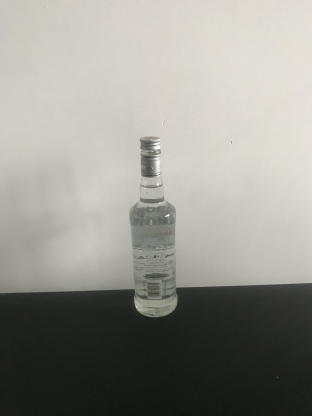nakretka: (138, 135, 162, 178)
